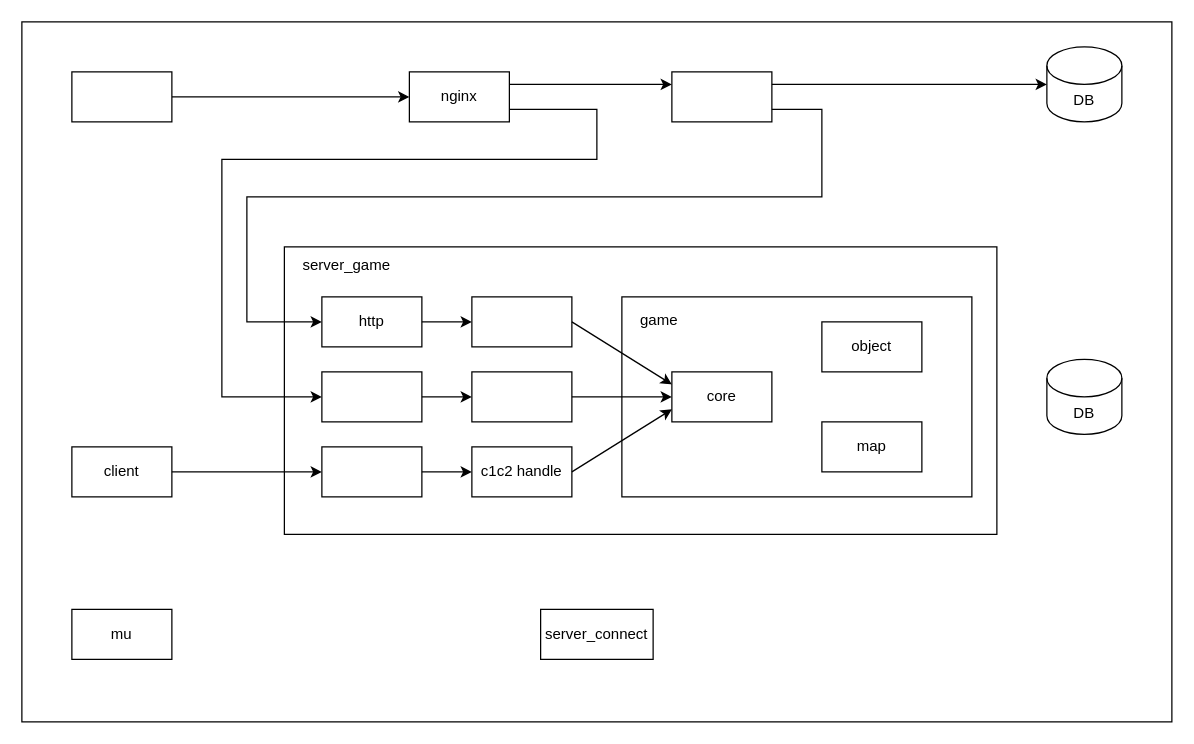
Image size: 1194x744. Some labels were removed from this diagram. The shapes that lost their labels are listed below. From the top down, each one's centre as x and y in pixels, then its label:
point (121, 96): browser
point (721, 96): server_web
point (521, 321): http handle
point (371, 396): websocket
point (521, 396): ws handle
point (371, 471): tcp
